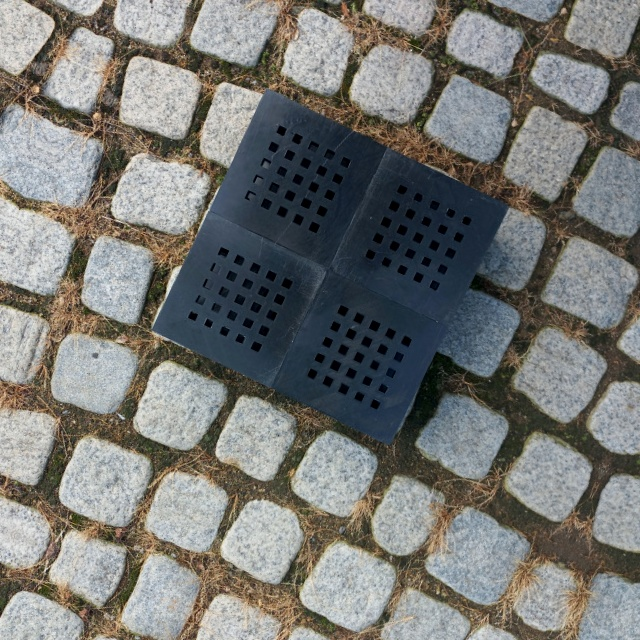pallet: (141, 72, 546, 463)
